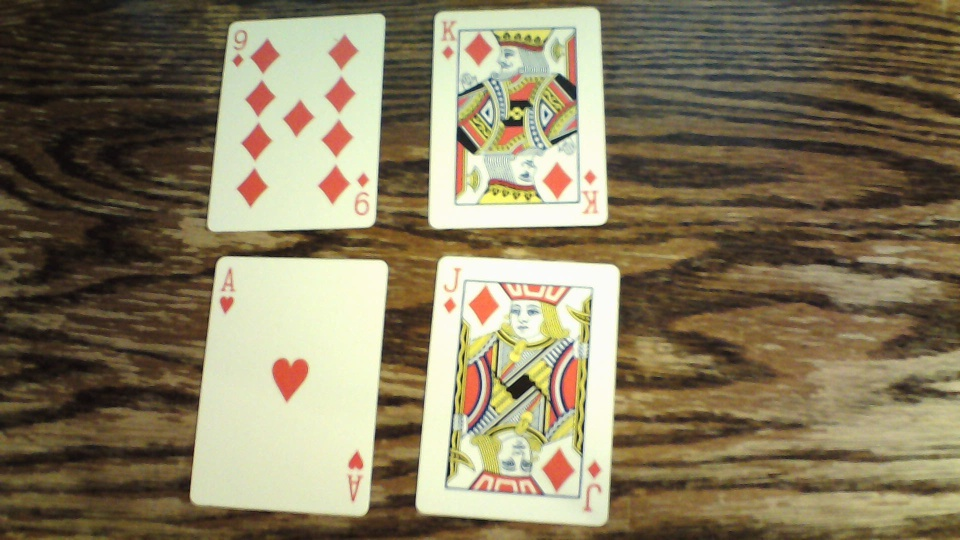ace: (189, 253, 388, 517)
jack: (413, 254, 623, 526)
king: (428, 6, 609, 229)
nine: (205, 13, 386, 230)
